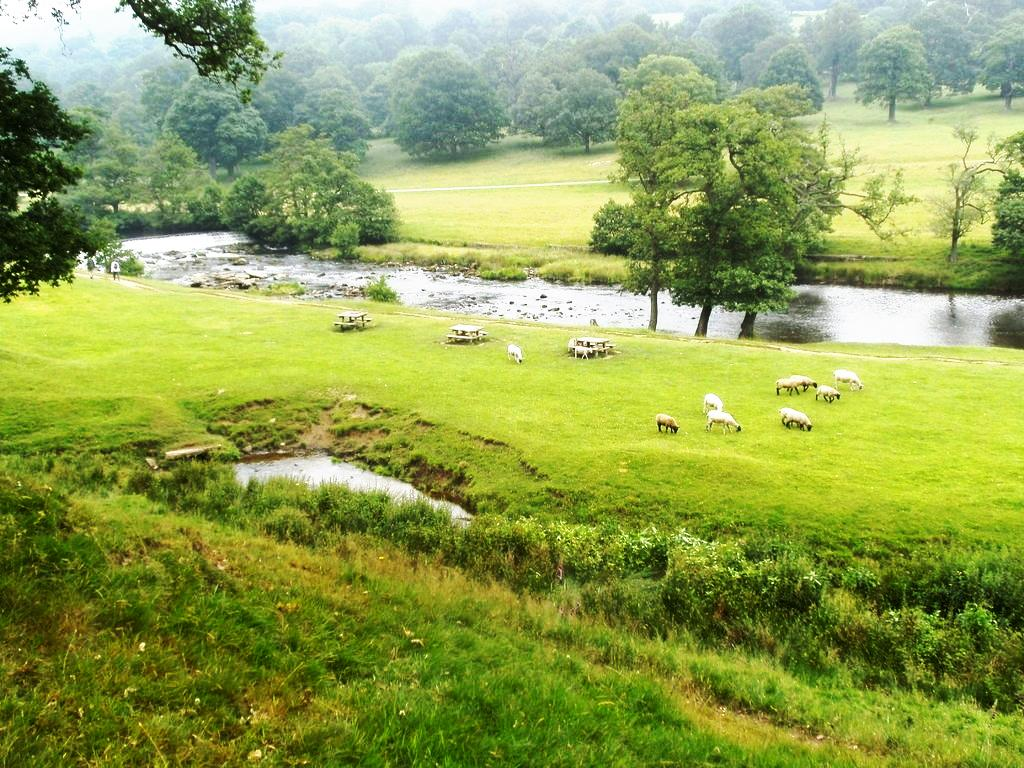Sheep: (704, 410, 741, 436), (834, 370, 866, 392), (786, 412, 814, 433), (775, 380, 808, 395), (776, 407, 798, 428), (814, 385, 838, 404), (657, 412, 677, 433), (507, 344, 523, 366), (704, 393, 719, 410), (796, 374, 814, 384)
